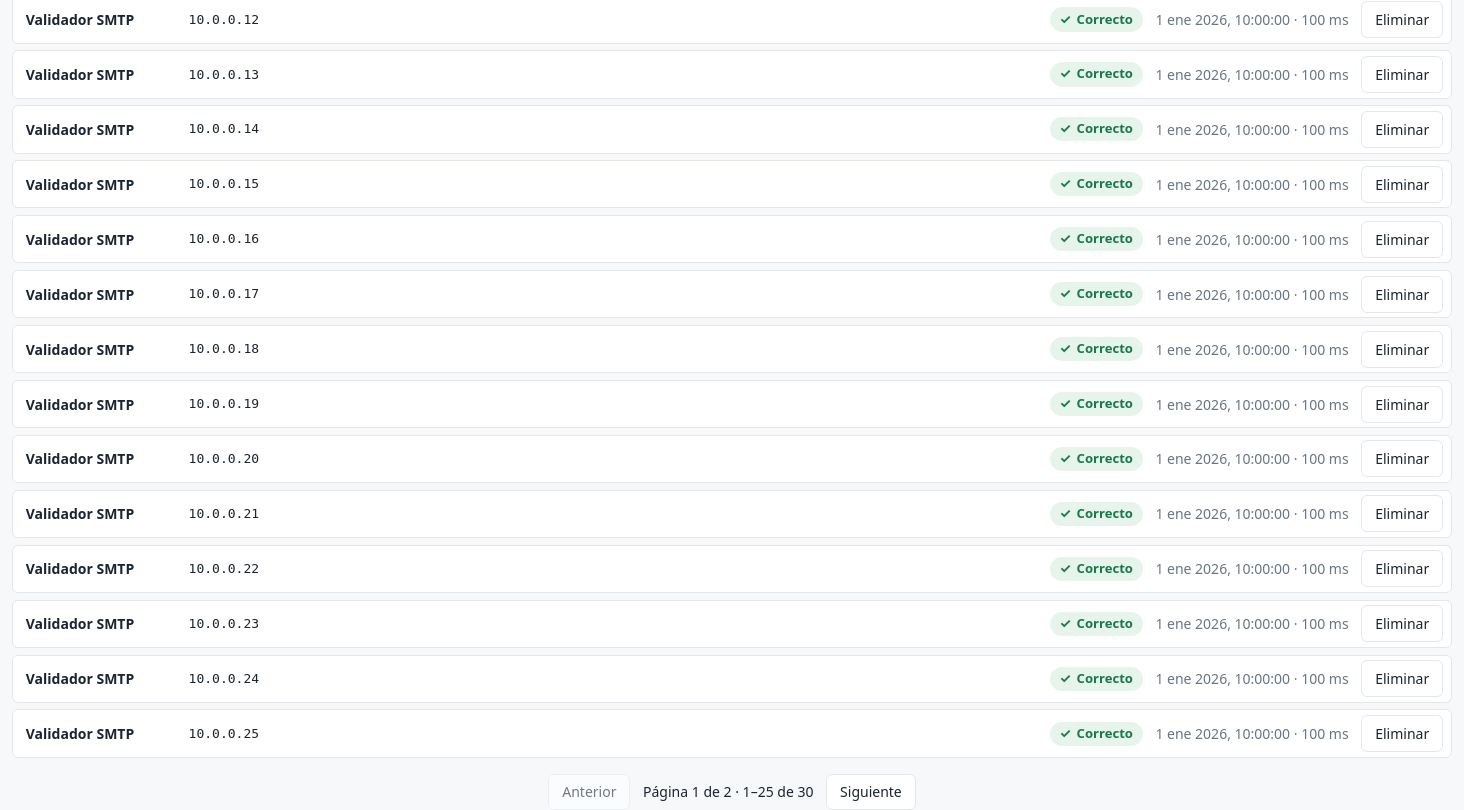
Test: paginación › avanza y retrocede
(page scrolled)
Click the button "Siguiente" at (871, 792), box [826, 774, 916, 809]
(page scrolled)
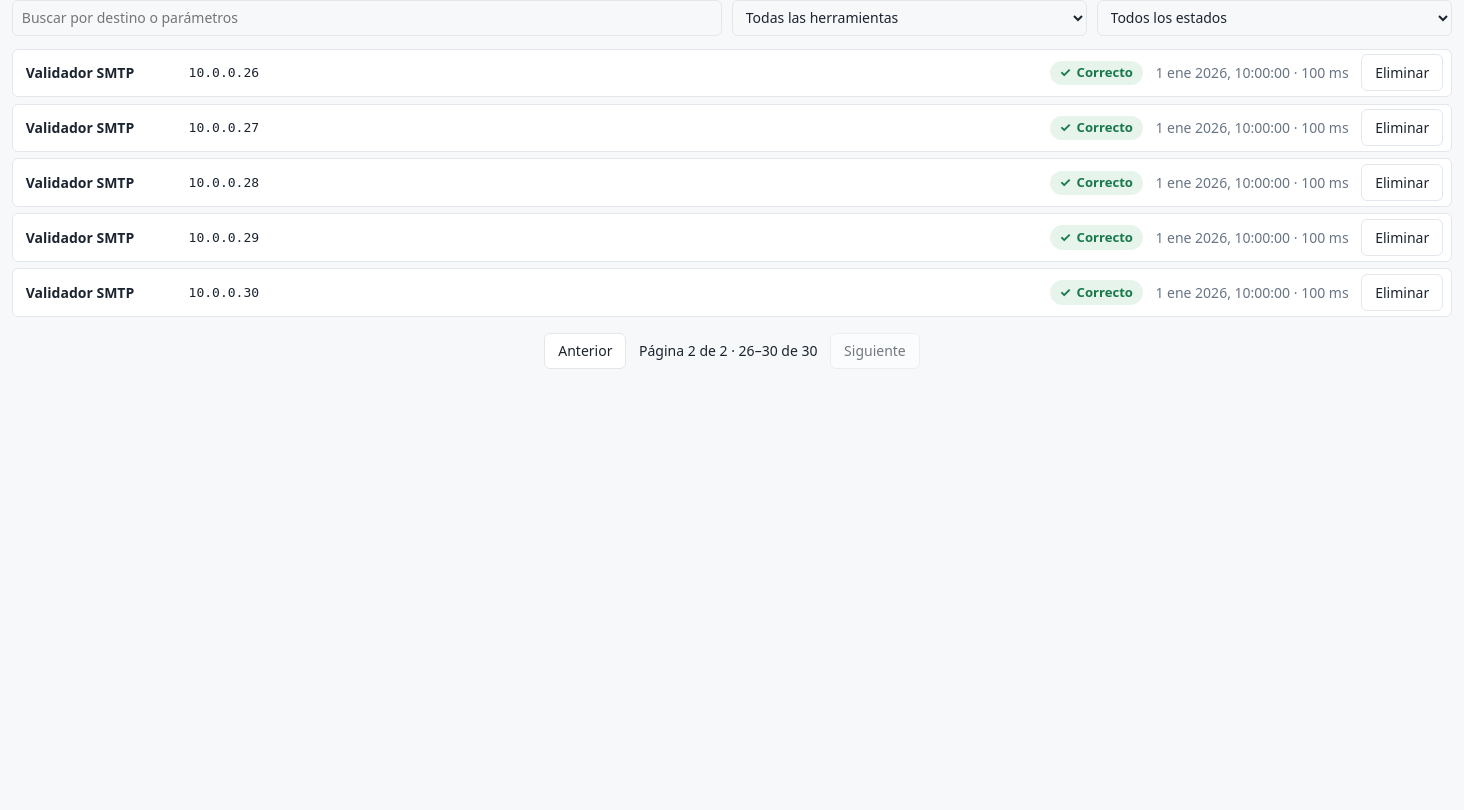
Expected: the navigation bar named "Páginas del historial" shows "Página 2 de 2", [544, 333, 920, 369]
Expected: the number of list items is 5, [12, 49, 1452, 97]; [12, 104, 1452, 152]; [12, 158, 1452, 207]; [12, 213, 1452, 262]; [12, 268, 1452, 317]
Click the button "Anterior" at (585, 351), box [544, 333, 626, 369]
(page scrolled)
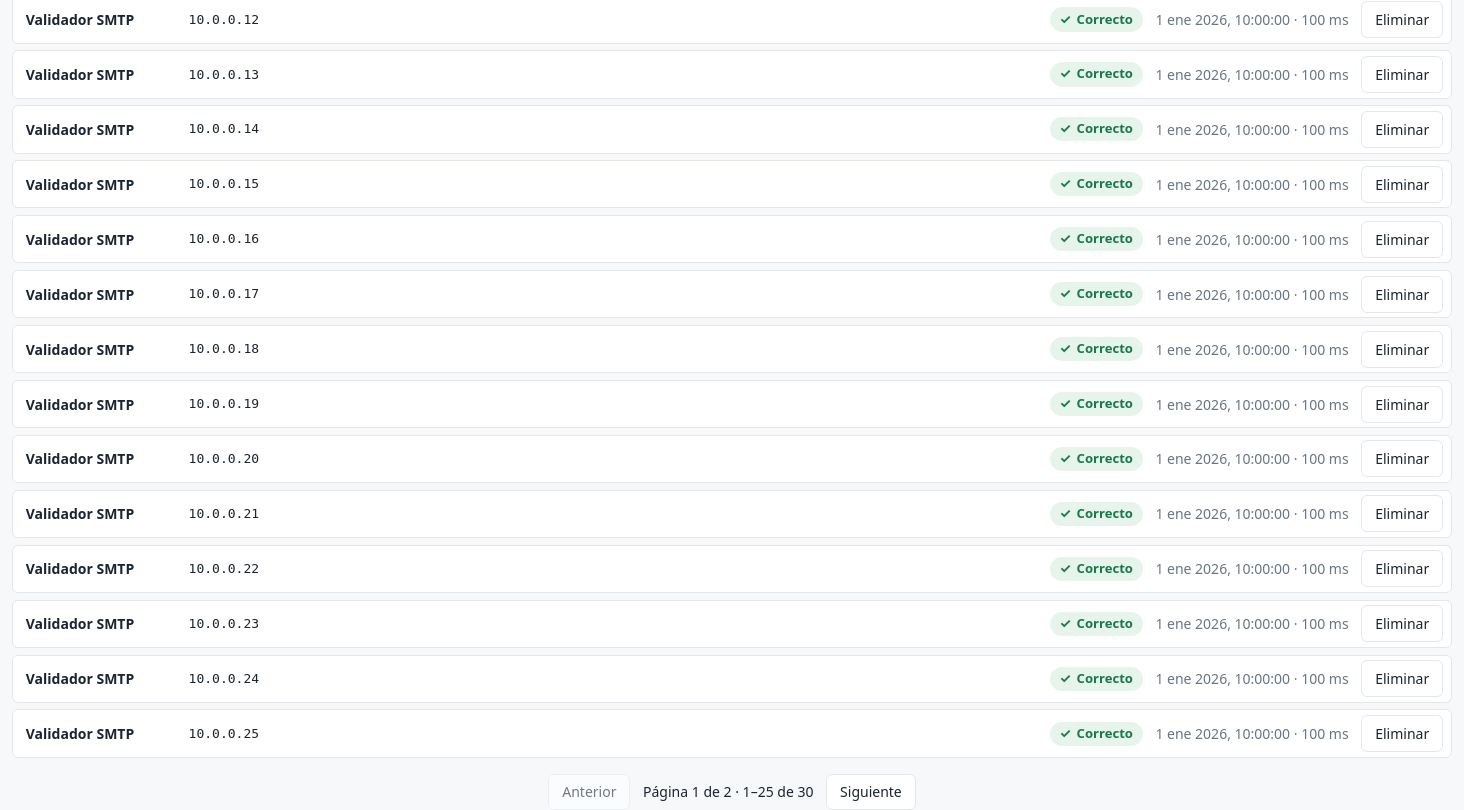
Expected: the navigation bar named "Páginas del historial" shows "Página 1 de 2", [548, 774, 916, 809]
